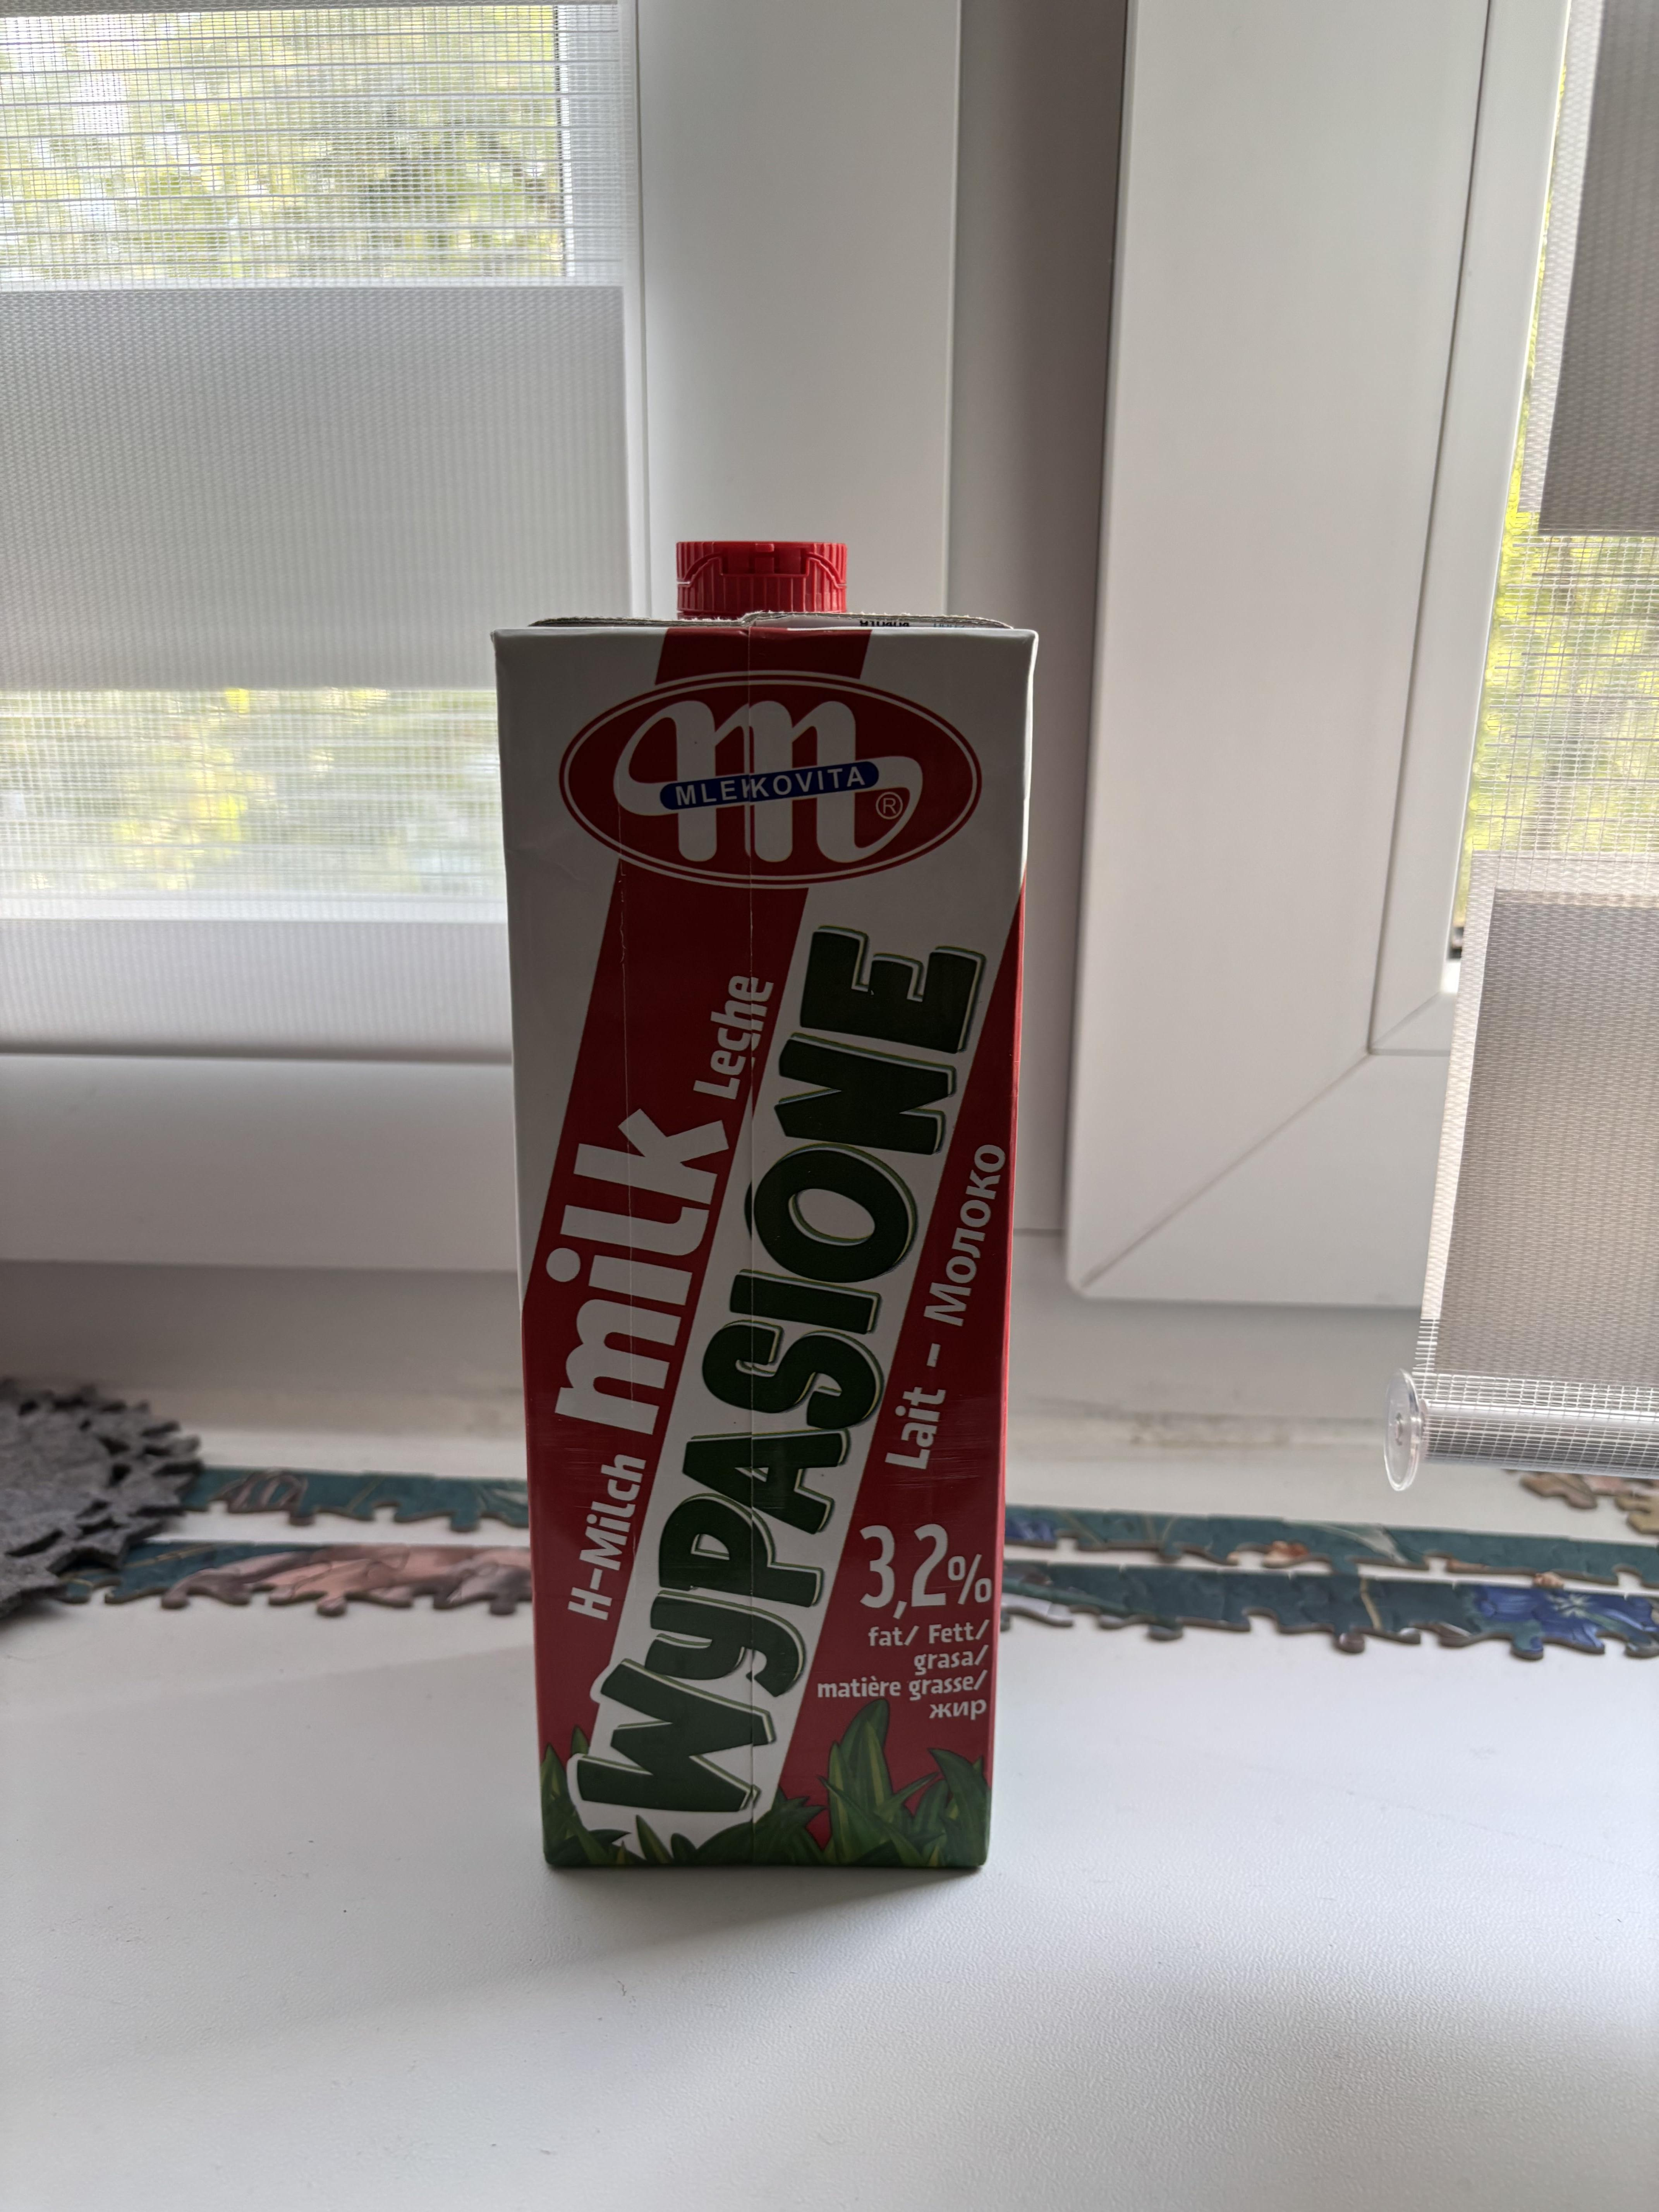Milk: (511, 613, 1000, 1902)
